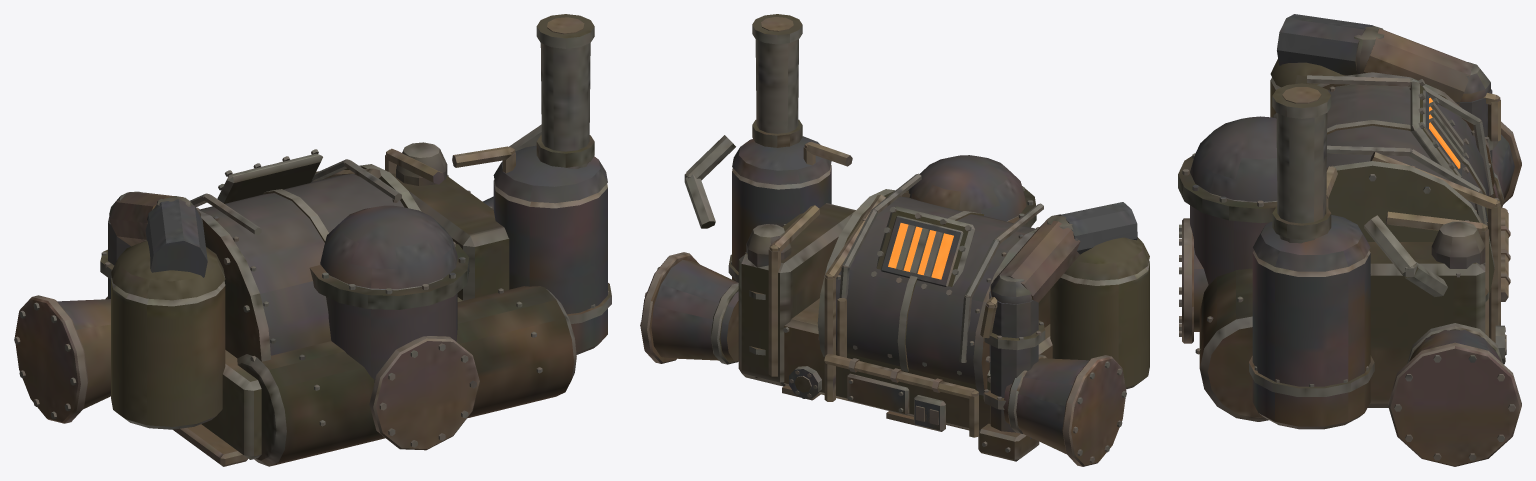
File: boiler-south.glb
The picture shows the model from 3 angles, left to right: view 1: azimuth 30°, elevation 25°; view 2: azimuth 150°, elevation 25°; view 3: azimuth 270°, elevation 25°; orthographic projection. The views are drawn at different scales.
Visible parts, largest first — view 1: body; view 2: body; view 3: body.
Part boxes in pixels (bbox=[...]): body: bbox=[14, 14, 611, 466]; body: bbox=[640, 14, 1149, 466]; body: bbox=[1178, 14, 1521, 466].
Bounding box in the file's own units: 2.99 × 1.96 × 1.75.
2 materials, 2 textured.
